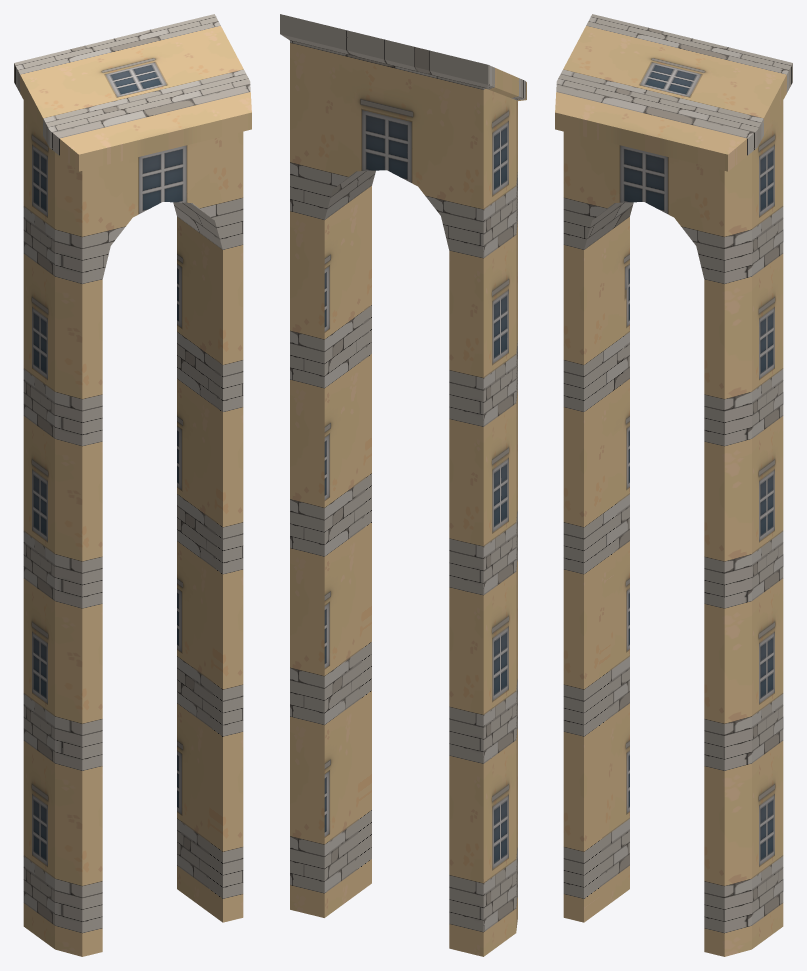
Rendered from SM_Bld_Background_Wall_Arch_01.fbx.
3 renders of one model, left to right at view 1: azimuth 30°, elevation 25°; view 2: azimuth 150°, elevation 25°; view 3: azimuth 330°, elevation 25°, orthographic. The views are drawn at different scales.
Visible parts, largest first — view 1: SM_Bld_Background_Wall_Arch_01; view 2: SM_Bld_Background_Wall_Arch_01; view 3: SM_Bld_Background_Wall_Arch_01.
Boxes of the visible parts, <box> form: SM_Bld_Background_Wall_Arch_01: <box>14,14,251,956</box>; SM_Bld_Background_Wall_Arch_01: <box>280,14,526,956</box>; SM_Bld_Background_Wall_Arch_01: <box>555,14,792,956</box>.
Bounding box in the file's own units: 540 × 2219 × 238.
